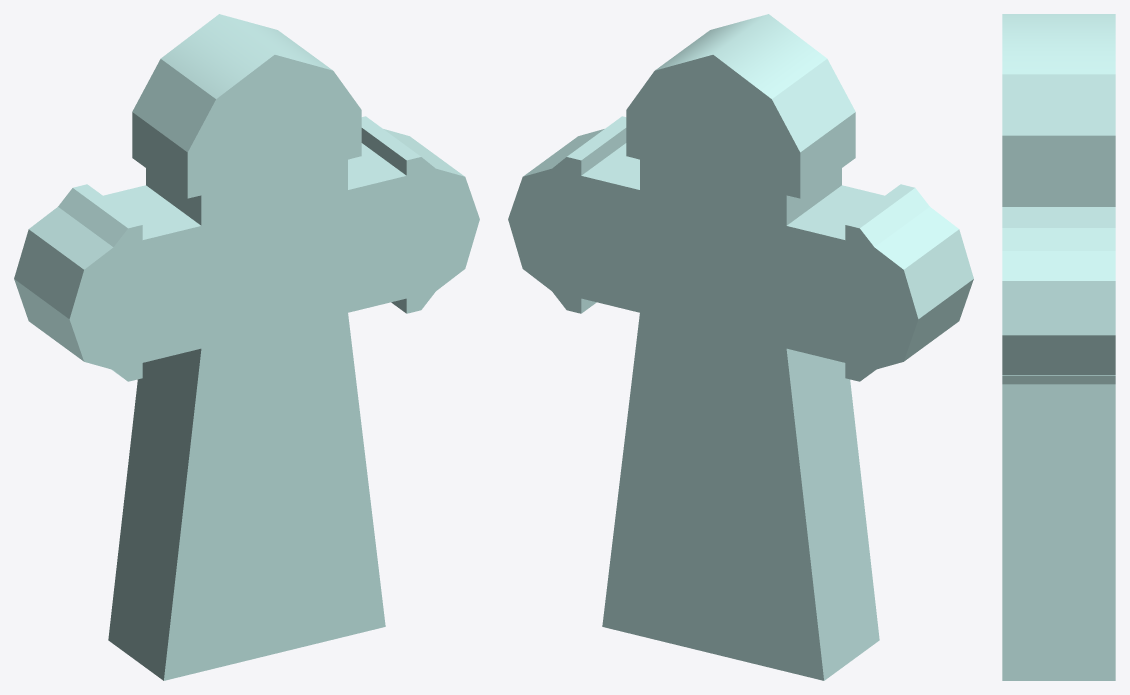
3 renders of one model, left to right at view 1: azimuth 30°, elevation 25°; view 2: azimuth 150°, elevation 25°; view 3: azimuth 270°, elevation 25°, orthographic. The views are drawn at different scales.
Parts seen in each view (by area): view 1: Object55; view 2: Object55; view 3: Object55.
Part boxes in pixels (x1,y1,x2,y2): Object55: [14, 14, 479, 680]; Object55: [508, 14, 973, 680]; Object55: [1002, 14, 1115, 680].
Bounding box in the file's own units: 280 × 391 × 65.61.
